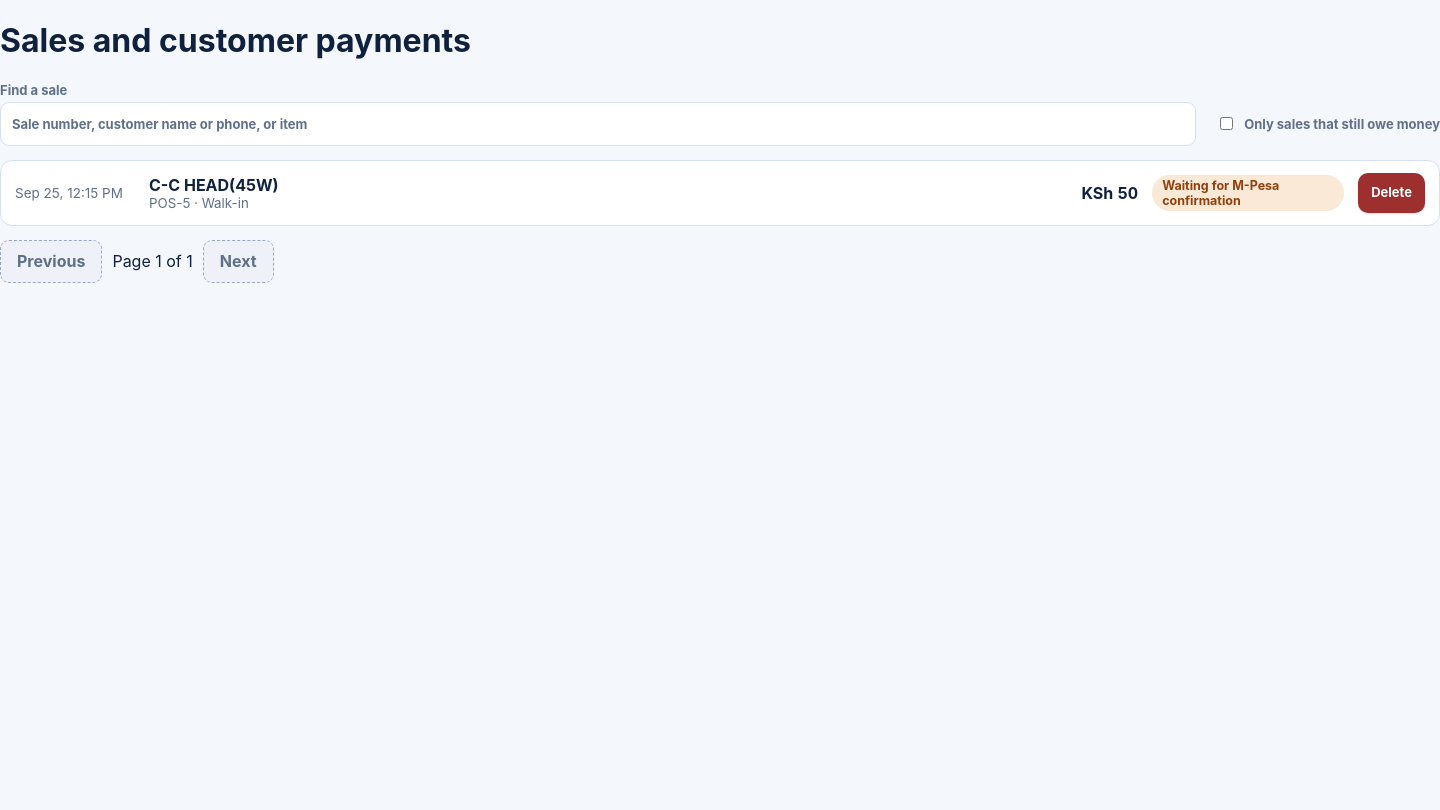
Test case: fills in the M-Pesa code typed at the sale, so confirming takes one click
Step 1. Click the heading "C-C HEAD(45W)" → (69, 193), box left=1, top=161, right=1439, bottom=225
(page scrolled)
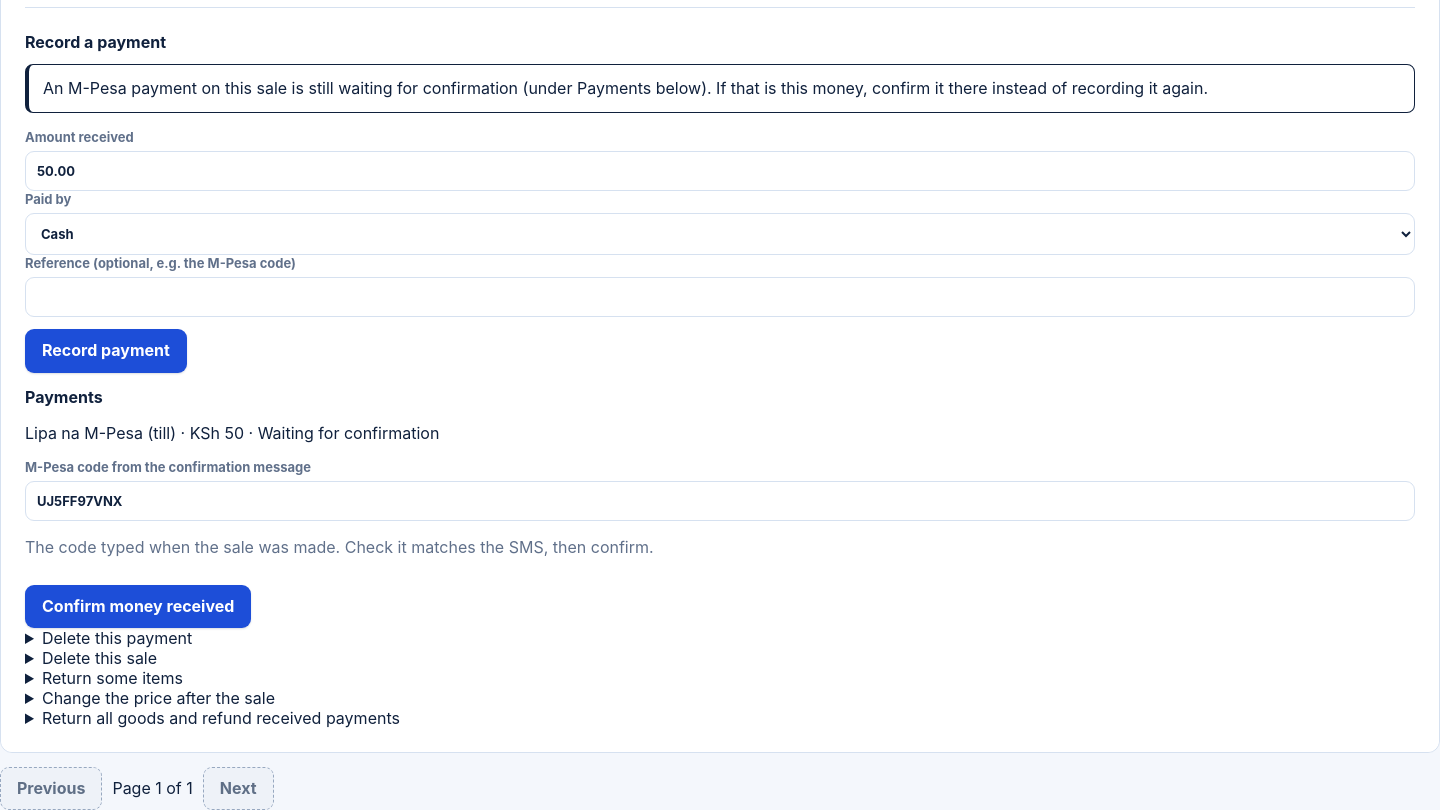
Now the text box labelled "M-Pesa code from the confirmation message" holds "UJ5FF97VNX", box left=25, top=481, right=1415, bottom=521
Now the button "Confirm money received" is shown, box left=25, top=585, right=251, bottom=628
